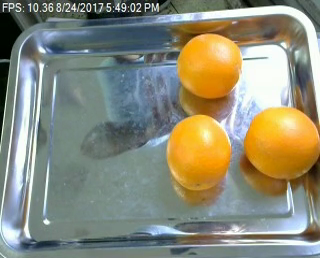Orange: (243, 105, 318, 180), (167, 113, 231, 190), (176, 31, 242, 99)
